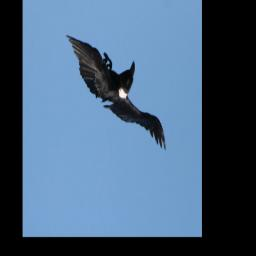Crow: (65, 31, 167, 157)
